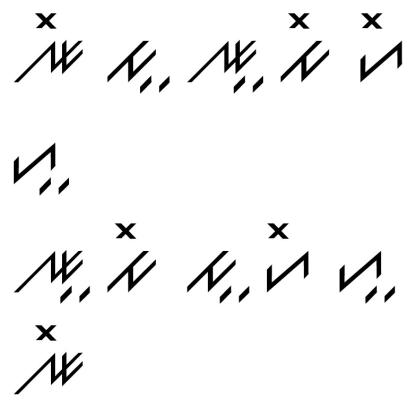hah: (9, 136, 74, 200), (328, 249, 399, 307)
ho: (355, 6, 405, 90), (261, 220, 315, 296)
mbah: (179, 240, 252, 308), (100, 33, 173, 99)
mbo: (104, 218, 158, 302), (273, 7, 331, 84)
ndah: (9, 237, 93, 311), (180, 30, 265, 99)
ndo: (9, 11, 90, 86), (9, 322, 85, 396)
